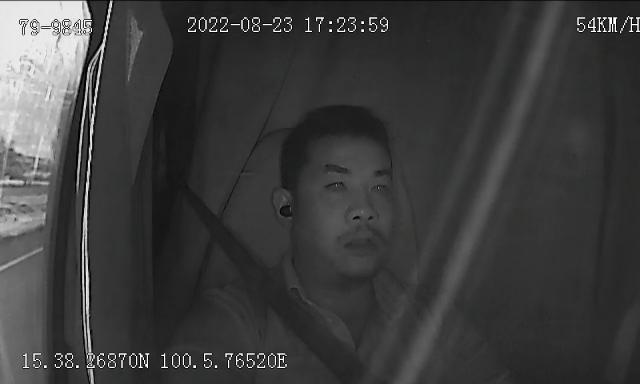SafeDriving: (321, 168, 352, 198), (366, 170, 395, 198)
Seatbelt: (190, 190, 372, 384)
